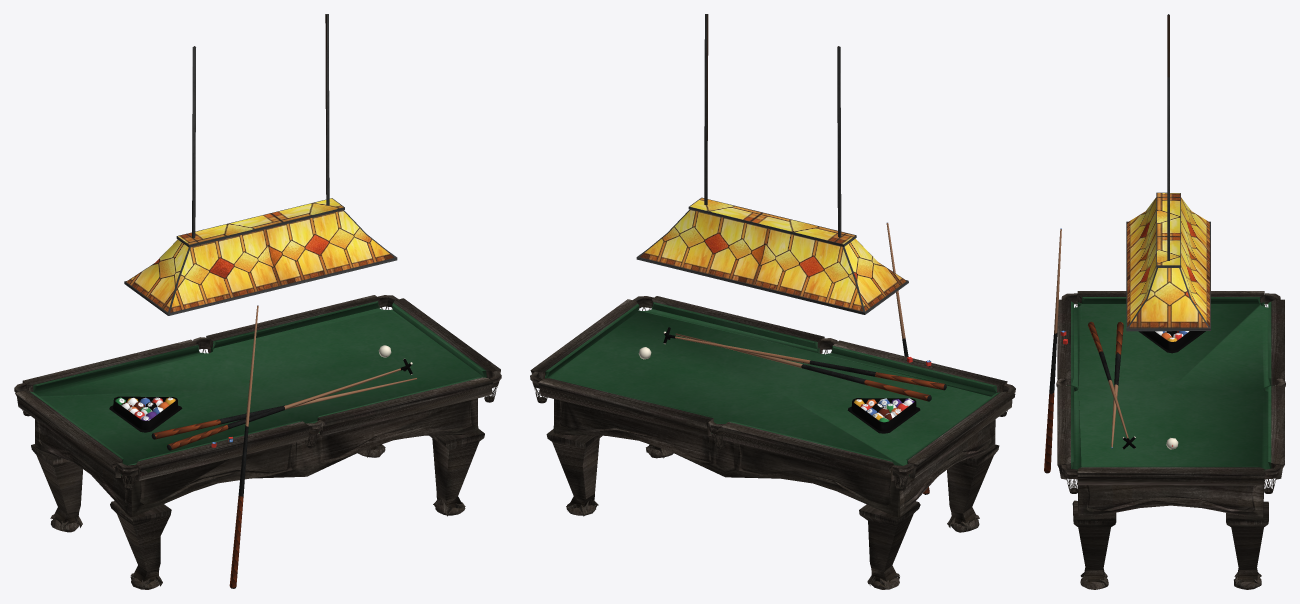
File: Pool-table.fbx
3 renders of one model, left to right at view 1: azimuth 30°, elevation 25°; view 2: azimuth 150°, elevation 25°; view 3: azimuth 270°, elevation 25°, orthographic. The views are drawn at different scales.
Parts seen in each view (by area): view 1: Cube.010_bida_0.001_bida_0, Cube.010_bida_0.001_bida_0.001; view 2: Cube.010_bida_0.001_bida_0, Cube.010_bida_0.001_bida_0.001; view 3: Cube.010_bida_0.001_bida_0, Cube.010_bida_0.001_bida_0.001.
Boxes of the visible parts, <box> form: Cube.010_bida_0.001_bida_0: <box>14,295,501,589</box>; Cube.010_bida_0.001_bida_0.001: <box>124,14,397,315</box>; Cube.010_bida_0.001_bida_0: <box>530,222,1015,589</box>; Cube.010_bida_0.001_bida_0.001: <box>636,14,908,314</box>; Cube.010_bida_0.001_bida_0: <box>1044,228,1285,589</box>; Cube.010_bida_0.001_bida_0.001: <box>1126,14,1210,331</box>.
Bounding box in the file's own units: 916 × 1101 × 514.
2 materials, 2 textured.
